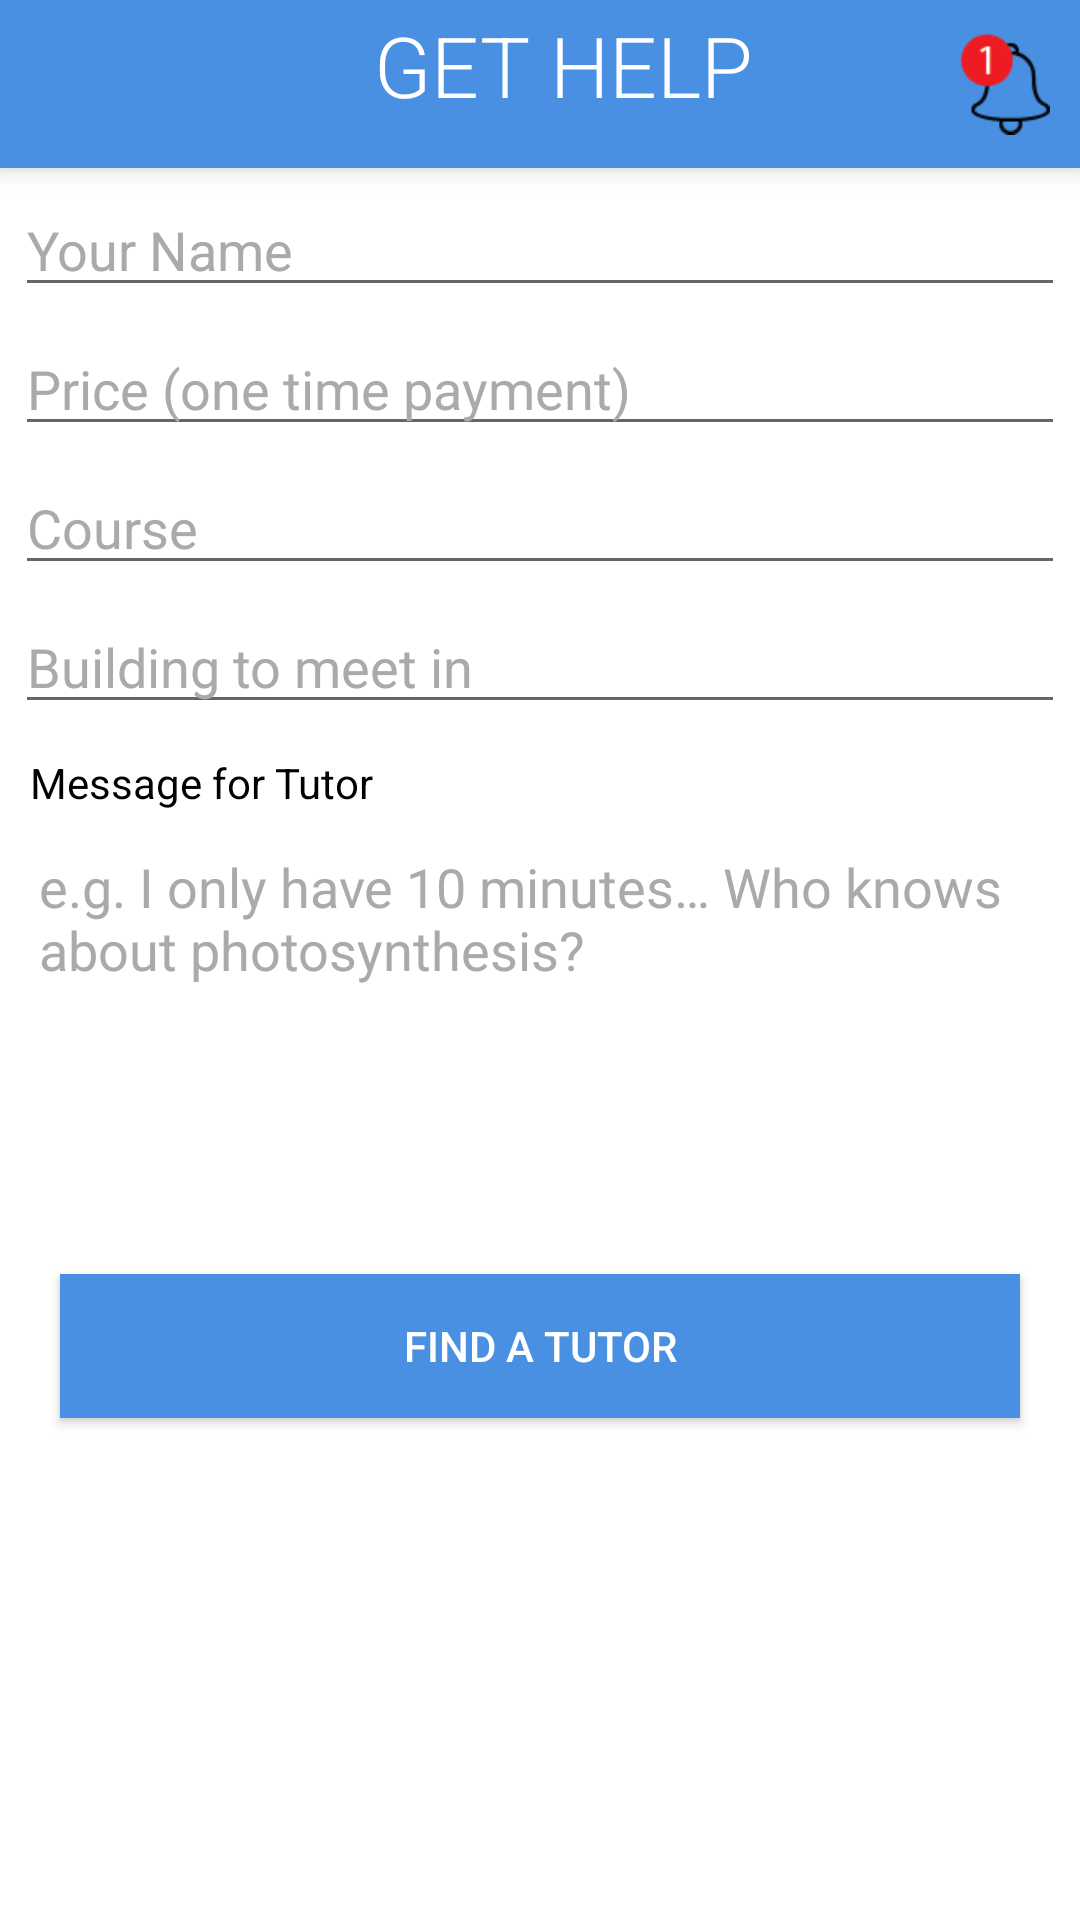

Locate icon controls on the screen. Image size 1080px×1920px, boxes as {"x1": x1, "y1": y1, "x2": x2, "y2": y2}.
Notification Icon: {"x1": 960, "y1": 33, "x2": 1050, "y2": 135}
